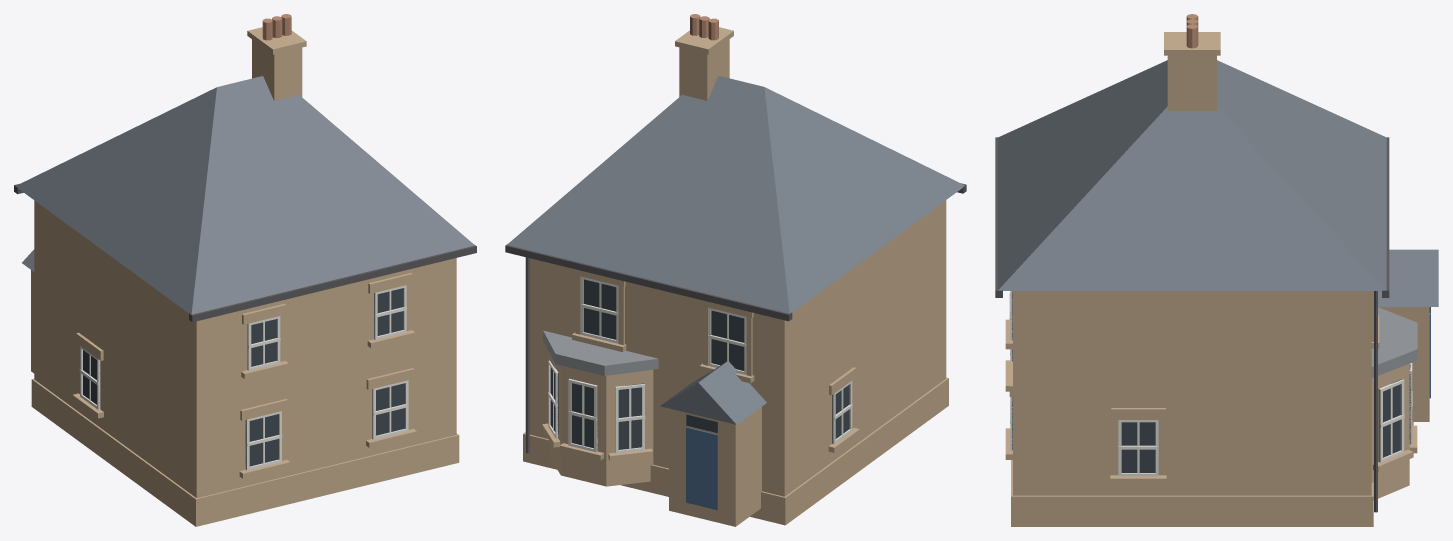
The model's file is villa_b.glb.
The picture shows the model from 3 angles, left to right: view 1: azimuth 30°, elevation 25°; view 2: azimuth 150°, elevation 25°; view 3: azimuth 270°, elevation 25°; orthographic projection. The views are drawn at different scales.
Parts seen in each view (by area): view 1: villa_b; view 2: villa_b; view 3: villa_b.
Part boxes in pixels (left/top/right/bottom): villa_b: left=14, top=14, right=476, bottom=526; villa_b: left=505, top=14, right=966, bottom=526; villa_b: left=995, top=14, right=1438, bottom=526.
Size of the model in its own units: 8.1 by 11.12 by 9.9.
